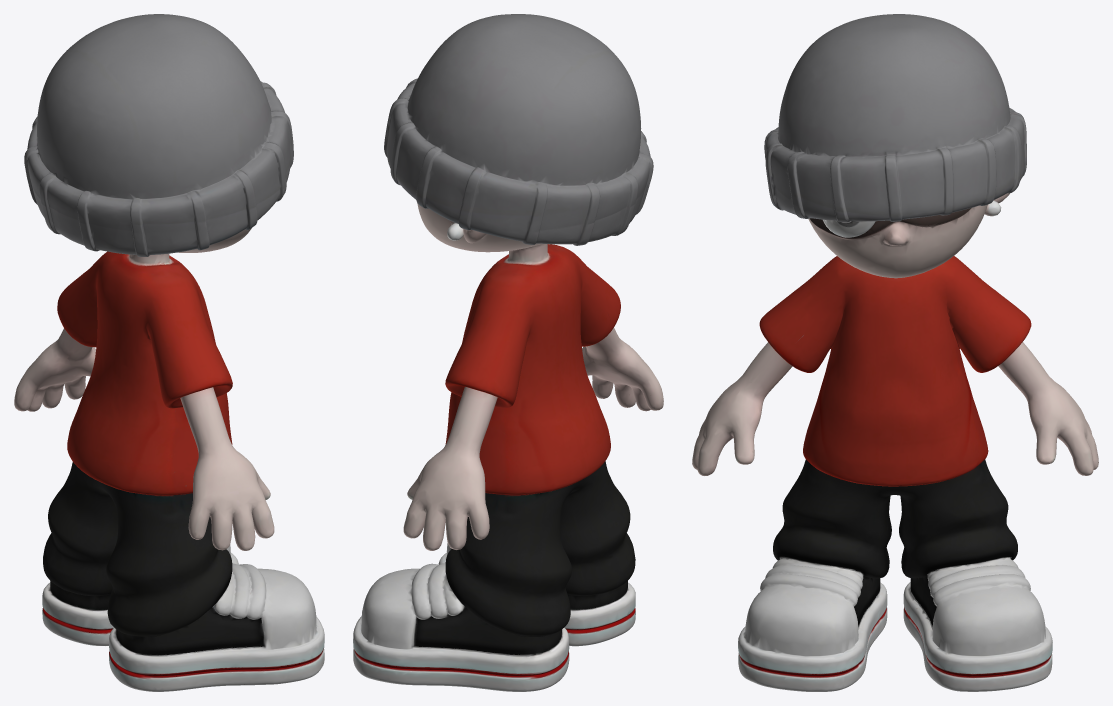
File: tripo-aligned.glb
The picture shows the model from 3 angles, left to right: view 1: azimuth 30°, elevation 25°; view 2: azimuth 150°, elevation 25°; view 3: azimuth 270°, elevation 25°; orthographic projection.
Parts seen in each view (by area): view 1: tripo_node_df47e524-b104-4b84-9aca-0a27bf8a4be0; view 2: tripo_node_df47e524-b104-4b84-9aca-0a27bf8a4be0; view 3: tripo_node_df47e524-b104-4b84-9aca-0a27bf8a4be0.
Part boxes in pixels (bbox=[...]): tripo_node_df47e524-b104-4b84-9aca-0a27bf8a4be0: bbox=[14, 14, 324, 691]; tripo_node_df47e524-b104-4b84-9aca-0a27bf8a4be0: bbox=[353, 14, 663, 691]; tripo_node_df47e524-b104-4b84-9aca-0a27bf8a4be0: bbox=[692, 14, 1098, 691].
Size of the model in its own units: 0.4016 by 1 by 0.6008.
1 material, 1 textured.
